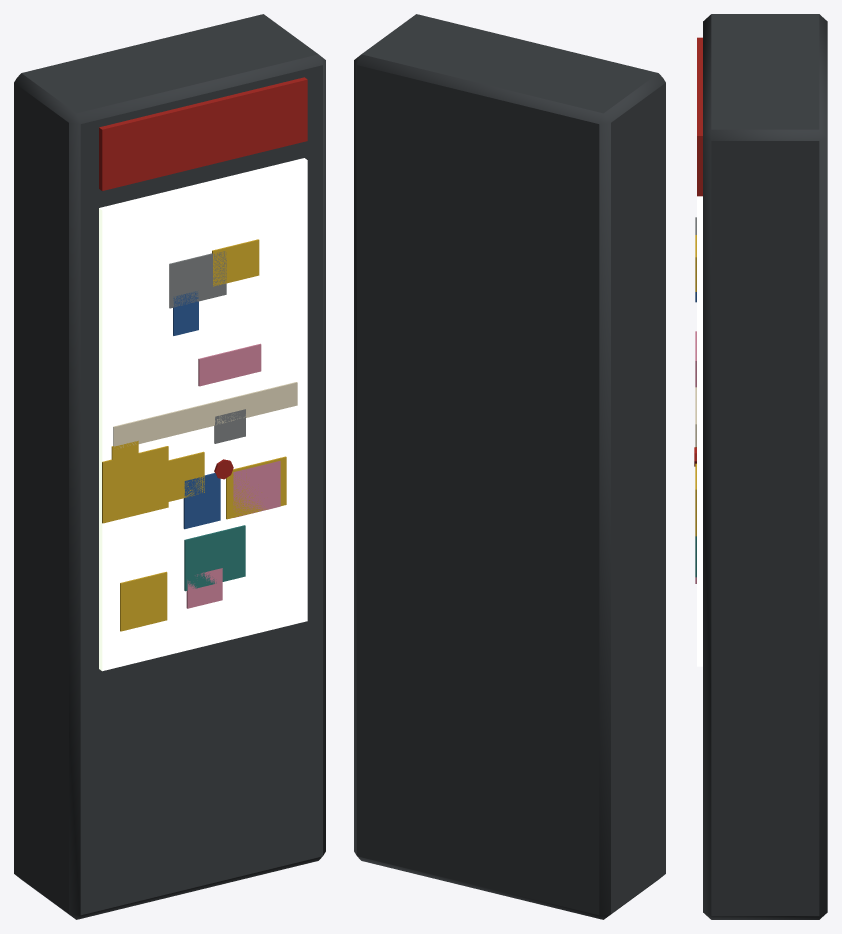
File: info_totem.glb
3 views of the same model, side by side, from view 1: azimuth 30°, elevation 25°; view 2: azimuth 150°, elevation 25°; view 3: azimuth 270°, elevation 25° (orthographic). The views are drawn at different scales.
Parts seen in each view (by area): view 1: InfoTotem; view 2: InfoTotem; view 3: InfoTotem.
Boxes of the visible parts, x1=… form: InfoTotem: x1=14, y1=14, x2=325, y2=919; InfoTotem: x1=354, y1=14, x2=665, y2=919; InfoTotem: x1=694, y1=14, x2=827, y2=919.
Size of the model in its own units: 0.7 by 2.1 by 0.321.
